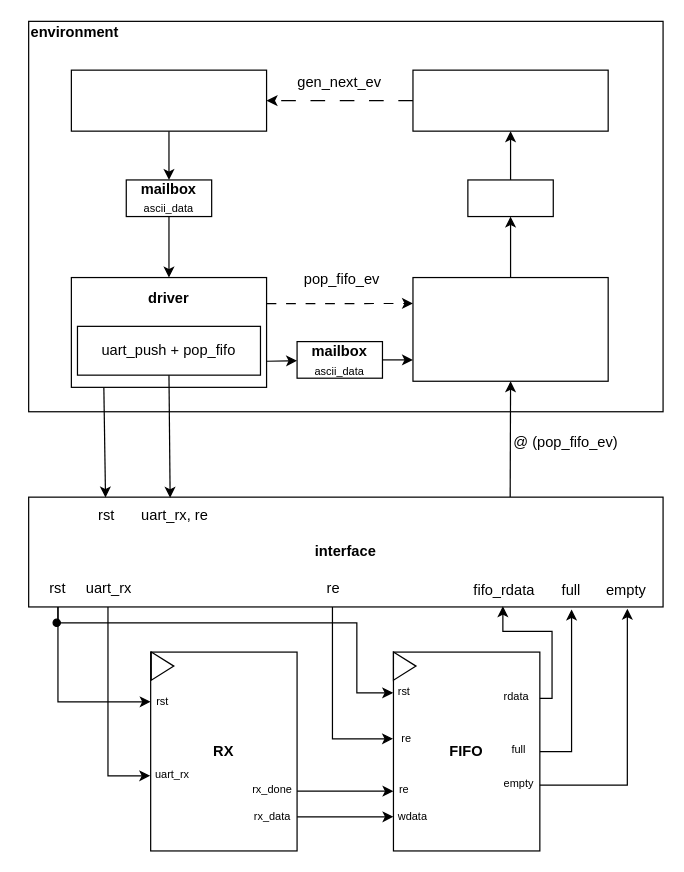
The diagram is 684 pixels wide and 872 high, and some of its shapes have lost their labels. The centre of each missing label's shape, as x and y in pixels:
generator (rand bit [7:0] ascii_data): the point at 168,100
mailbox all data: the point at 510,198
mointor: the point at 510,328
scoreboard: the point at 510,100
